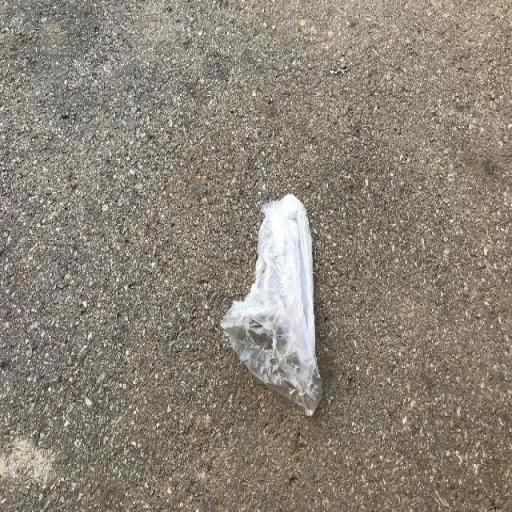plastic-bag: (218, 190, 328, 418)
